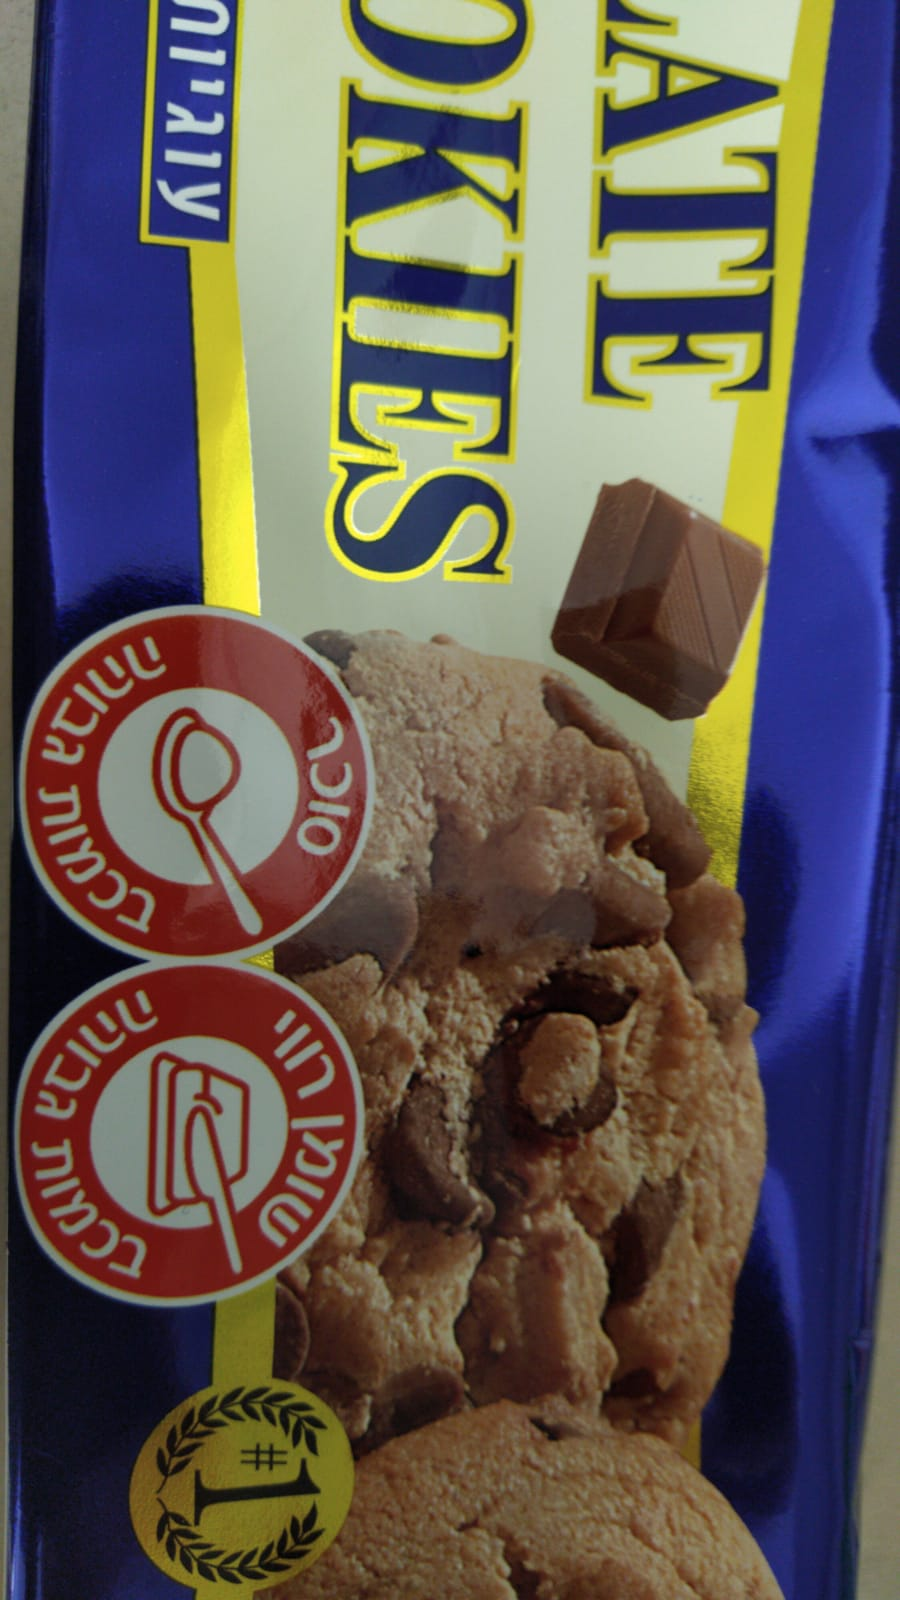fat: (11, 963, 369, 1313)
sugar: (16, 605, 377, 965)
